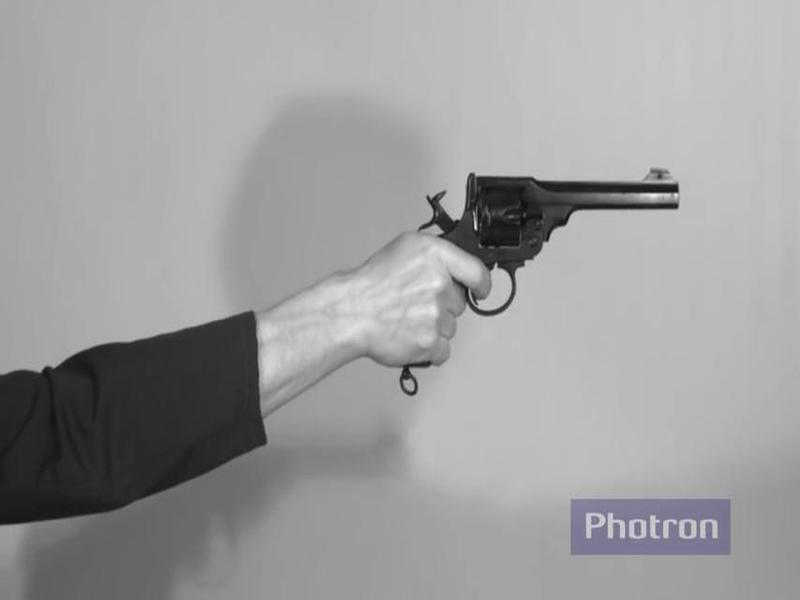Revolver: (368, 150, 681, 406)
